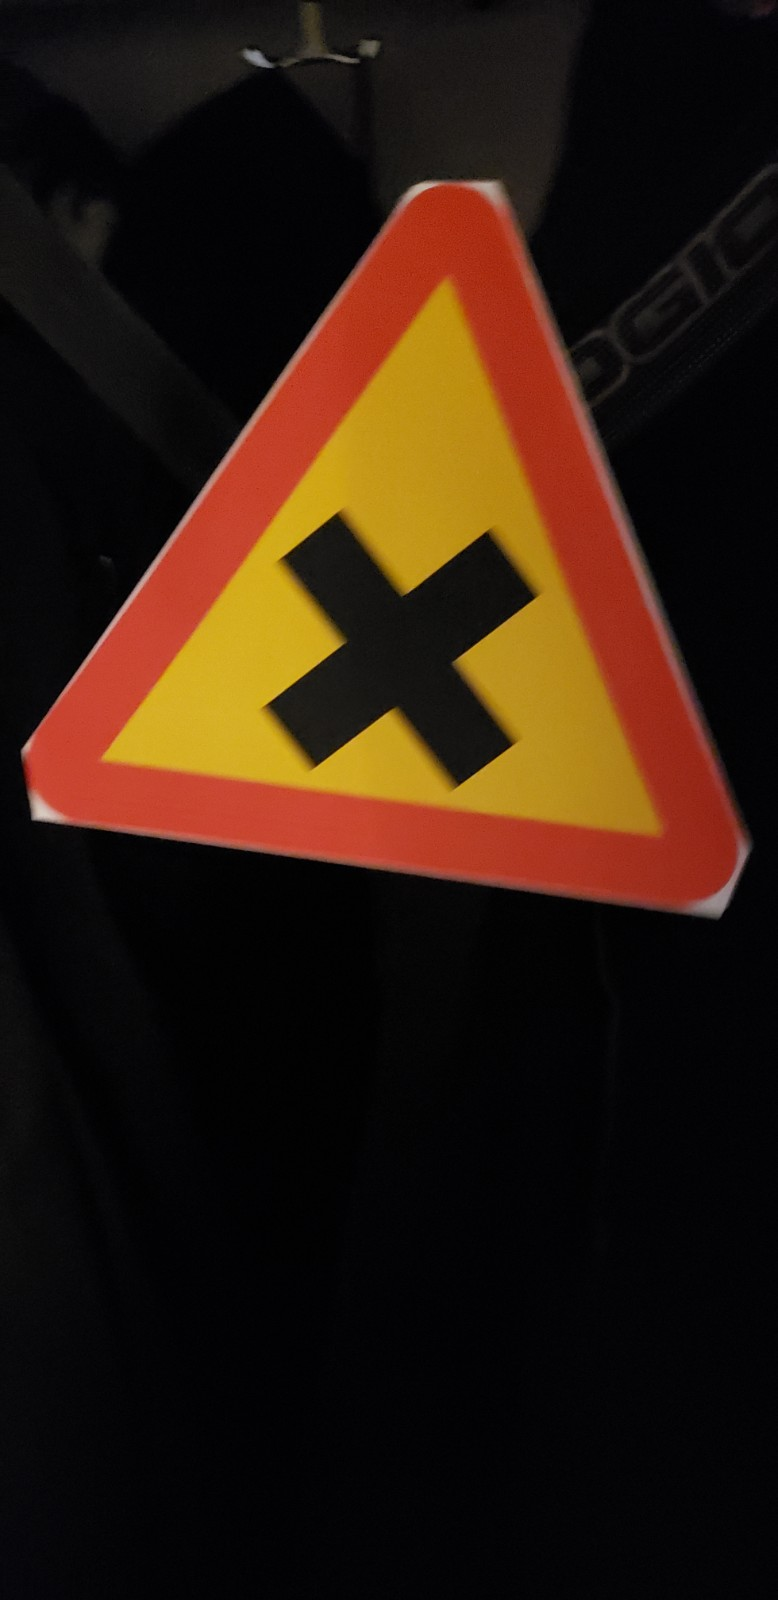junction: (61, 145, 778, 965)
